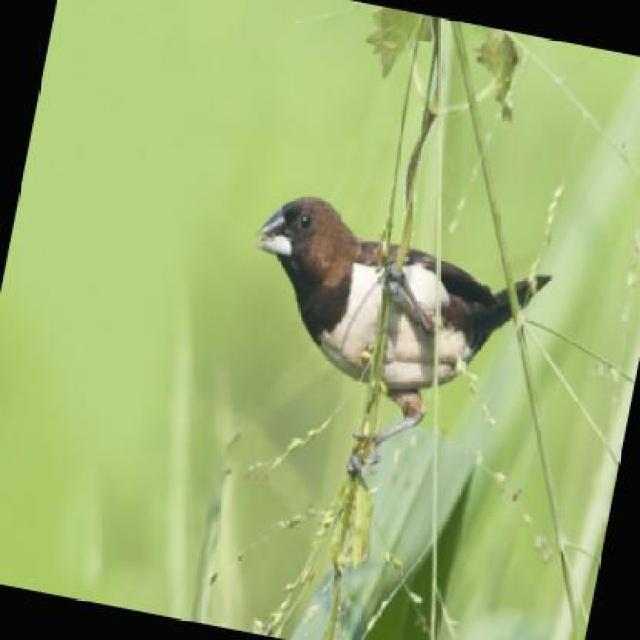Bird: (255, 190, 552, 459)
